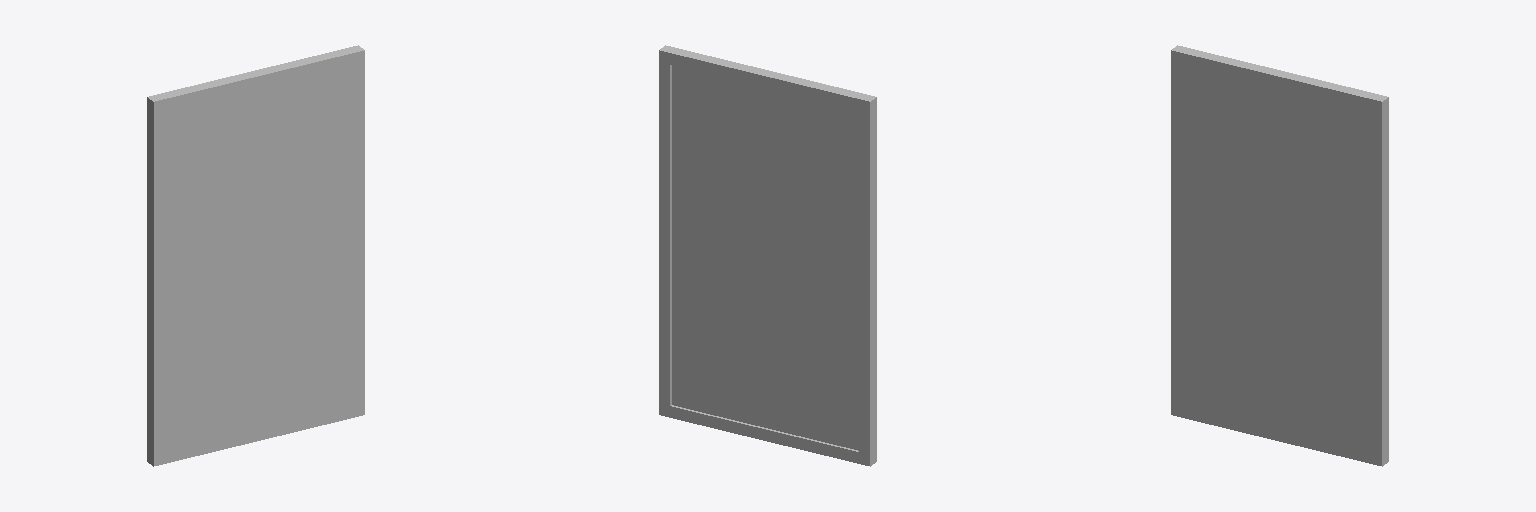
File: sdcds.obj
The picture shows the model from 3 angles: view 1: azimuth 30°, elevation 25°; view 2: azimuth 150°, elevation 25°; view 3: azimuth 330°, elevation 25°; orthographic projection.
Bounding box in the file's own units: 0.54 × 0.89 × 0.03.